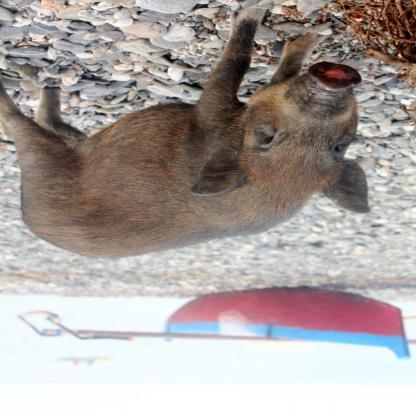boar: (0, 8, 372, 261)
